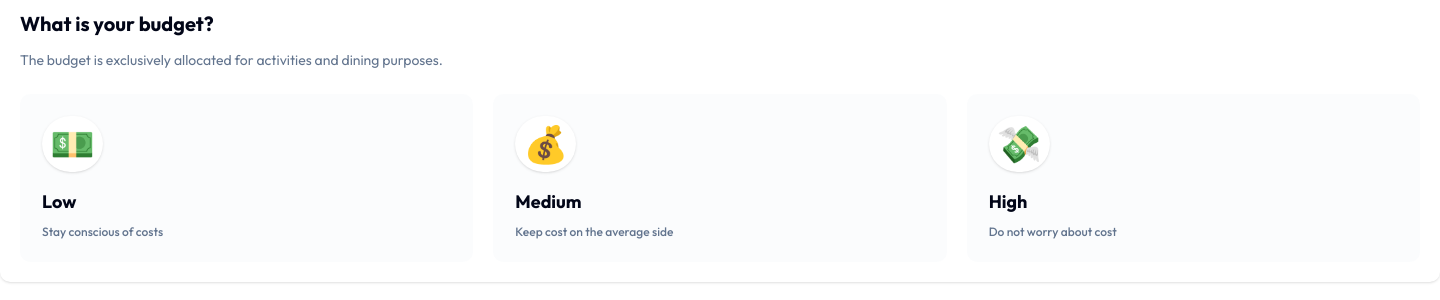
Trip planning UI components & accessibility › Budget renders accessible pressed buttons and invokes callback
Step 1. Click the button "💵 Low Stay conscious of costs" → (72, 144), box top-left (20, 94), bottom-right (473, 262)
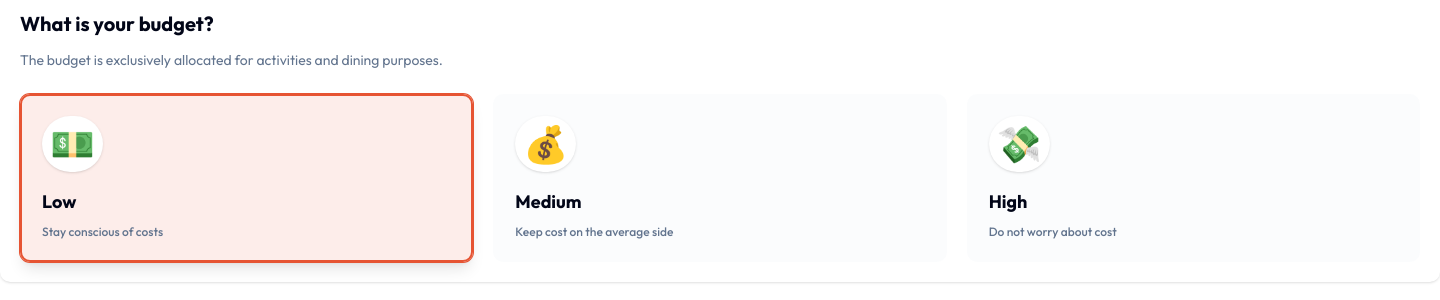
Expected: the button "💵 Low Stay conscious of costs" is pressed, top-left (20, 94), bottom-right (473, 262)
